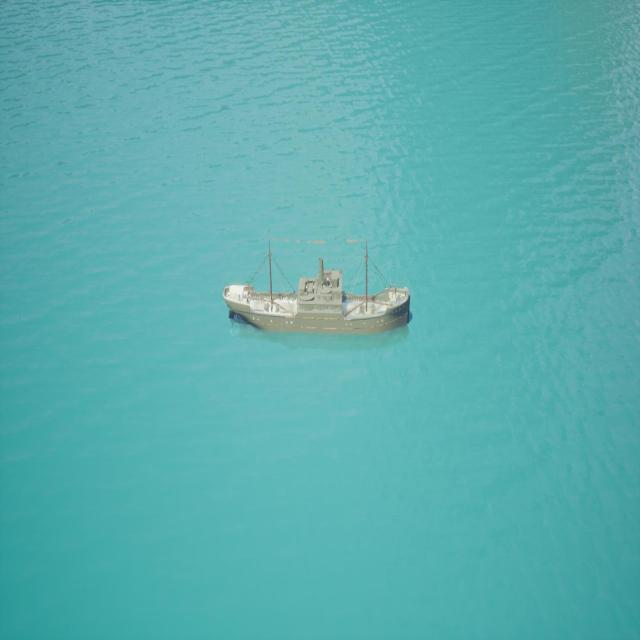fishing ship: (224, 235, 412, 338)
